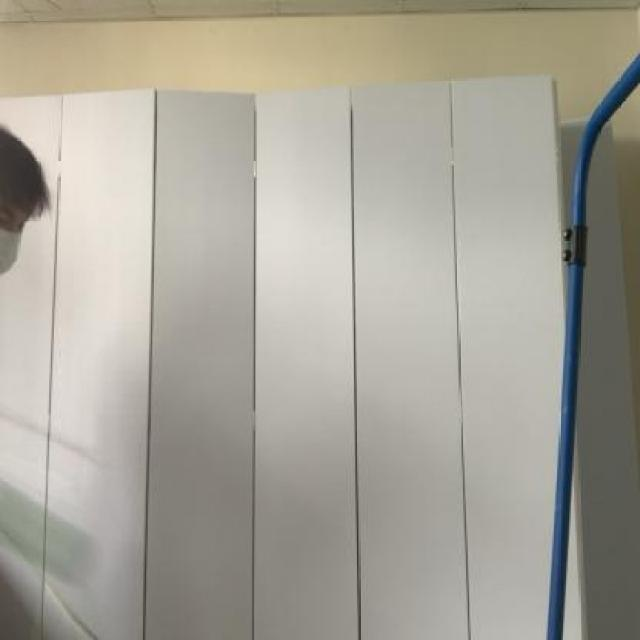baseball: (0, 461, 100, 593)
